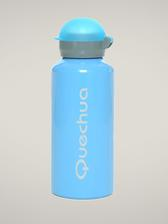other: (48, 13, 119, 200)
